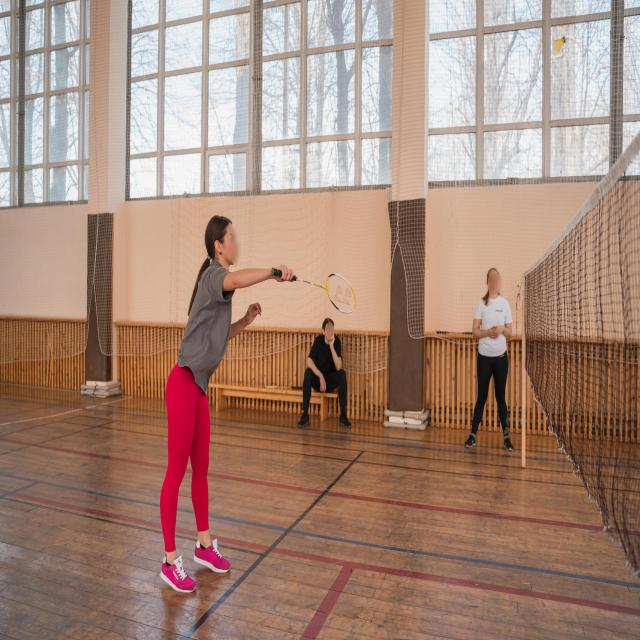Person: (150, 207, 264, 608), (457, 259, 518, 479), (287, 316, 368, 433)
